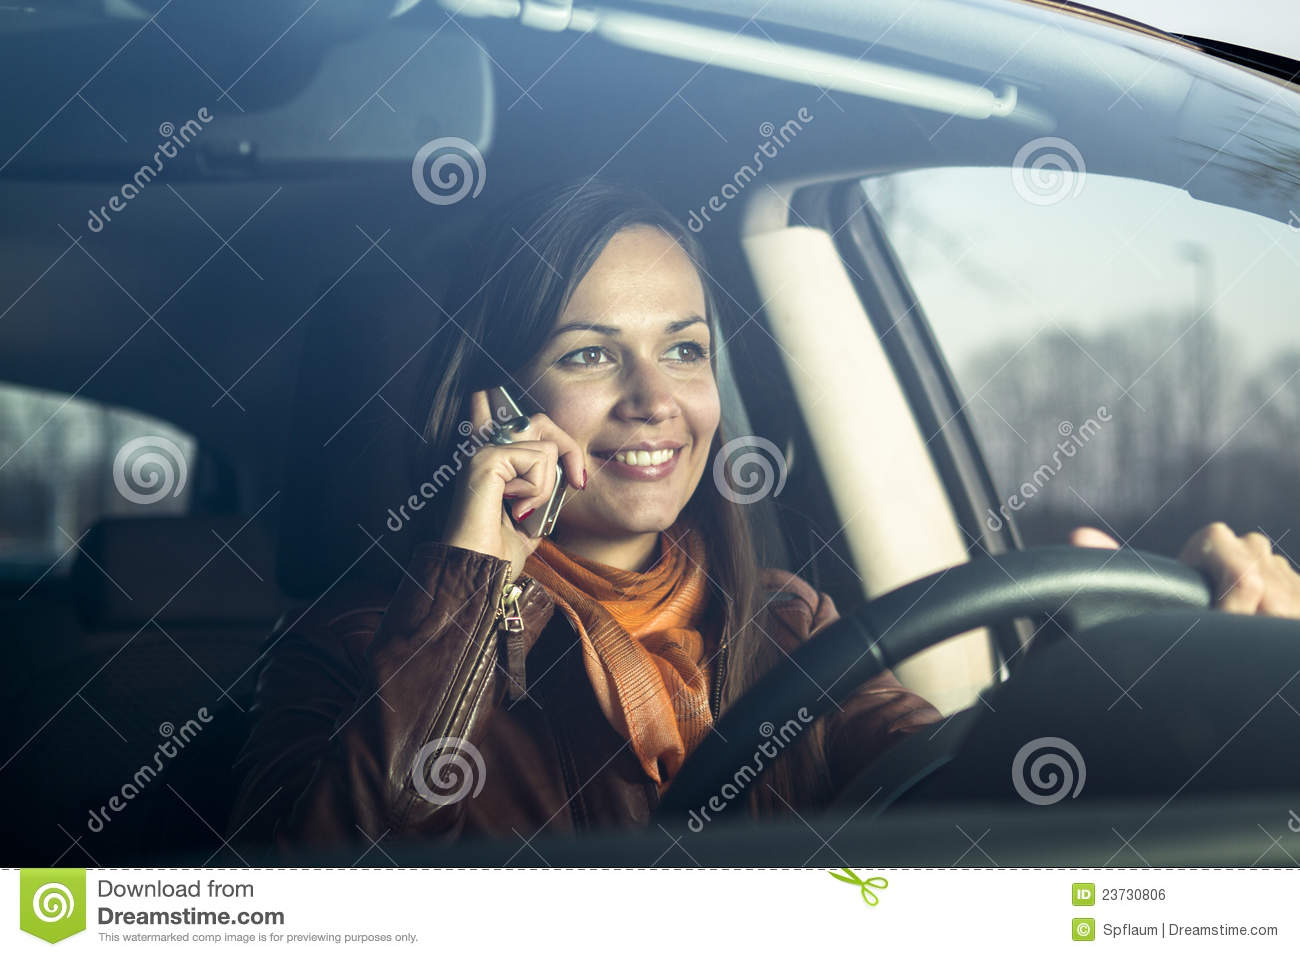phone: (484, 376, 567, 540)
talk: (449, 305, 718, 577)
